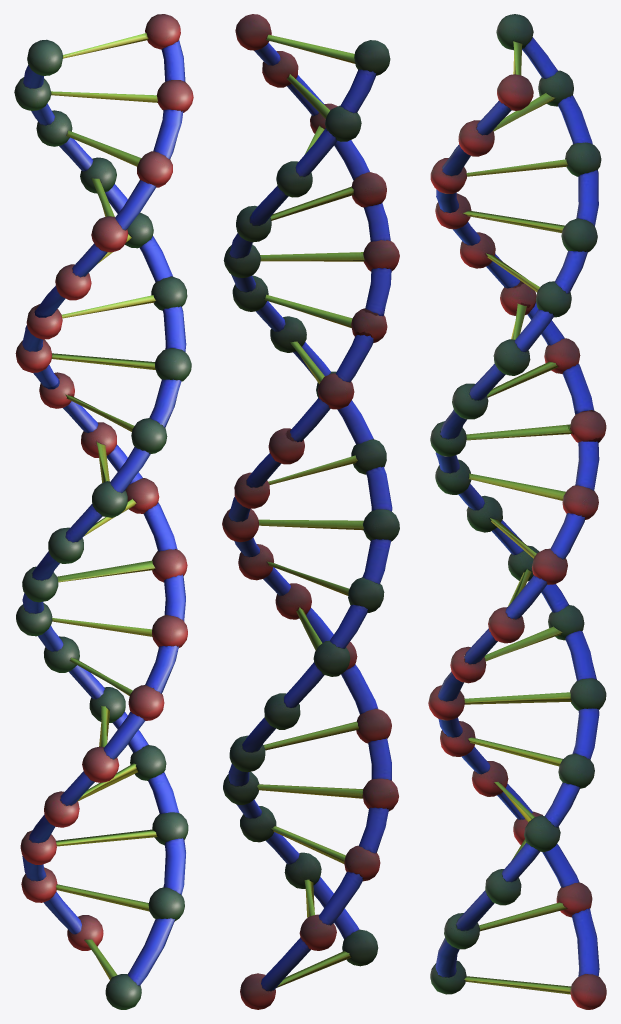
File: DNA_1.glb
The picture shows the model from 3 angles, left to right: view 1: azimuth 30°, elevation 25°; view 2: azimuth 150°, elevation 25°; view 3: azimuth 270°, elevation 25°; orthographic projection.
Visible parts, largest first — view 1: Cylinder_0; view 2: Cylinder_0; view 3: Cylinder_0.
Part boxes in pixels (x1,y1,x2,y2): Cylinder_0: (14, 14, 193, 1009); Cylinder_0: (222, 14, 399, 1009); Cylinder_0: (428, 14, 606, 1009).
Bounding box in the file's own units: 1.75 × 10.27 × 1.74.
Materials: 1 (1 with a texture image).
